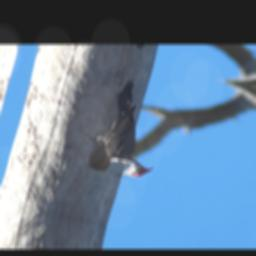Woodpecker: (74, 73, 176, 184)
